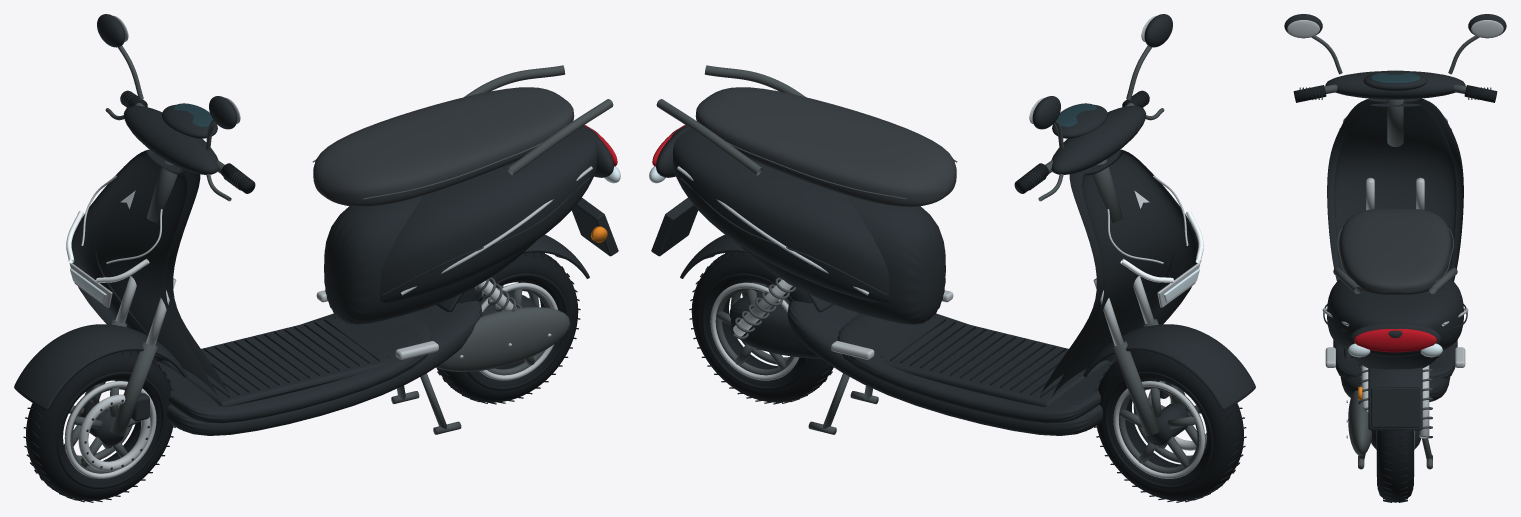
Rendered from apex.glb.
3 renders of one model, left to right at view 1: azimuth 30°, elevation 25°; view 2: azimuth 150°, elevation 25°; view 3: azimuth 270°, elevation 25°, orthographic. The views are drawn at different scales.
Visible parts, largest first — view 1: Painted floor edge.001, Front hub.001, Saddle.001, Front tyre.001, Front alloy rim.002, Front machined rim.002, Angular DRL.002; view 2: Painted floor edge.001, Front hub.001, Front tyre.001, Saddle.001, Front alloy rim.002, Front machined rim.002, Angular DRL.002; view 3: Front hub.001, Painted floor edge.001, Saddle.001, Front alloy rim.002, Front tyre.001, Front machined rim.002, Tail lamp lens.001, Instrument screen.001, Rear turn signal.002.
Part boxes in pixels (x1=…): Painted floor edge.001: x1=14, y1=105, x2=598, y2=423; Front hub.001: x1=78, y1=14, x2=618, y2=469; Saddle.001: x1=313, y1=87, x2=574, y2=206; Front tyre.001: x1=23, y1=90, x2=580, y2=502; Front alloy rim.002: x1=64, y1=45, x2=613, y2=473; Front machined rim.002: x1=65, y1=15, x2=592, y2=478; Angular DRL.002: x1=66, y1=211, x2=149, y2=283; Painted floor edge.001: x1=671, y1=105, x2=1255, y2=423; Front hub.001: x1=651, y1=14, x2=1191, y2=445; Front tyre.001: x1=689, y1=90, x2=1246, y2=502; Saddle.001: x1=695, y1=87, x2=956, y2=206; Front alloy rim.002: x1=656, y1=45, x2=1205, y2=473; Front machined rim.002: x1=677, y1=15, x2=1206, y2=478; Angular DRL.002: x1=1120, y1=211, x2=1203, y2=283; Front hub.001: x1=1284, y1=14, x2=1506, y2=449; Painted floor edge.001: x1=1325, y1=71, x2=1465, y2=379; Saddle.001: x1=1339, y1=208, x2=1451, y2=295; Front alloy rim.002: x1=1311, y1=35, x2=1479, y2=469; Front tyre.001: x1=1293, y1=85, x2=1497, y2=502; Front machined rim.002: x1=1287, y1=20, x2=1503, y2=476; Tail lamp lens.001: x1=1354, y1=329, x2=1436, y2=352; Instrument screen.001: x1=1370, y1=73, x2=1420, y2=83; Rear turn signal.002: x1=1348, y1=343, x2=1442, y2=357.
Size of the model in its own units: 1.91 by 1.34 by 0.774.
